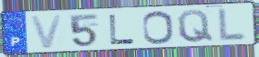5: (68, 13, 101, 48)
L: (217, 7, 248, 43), (108, 13, 136, 46)
O: (141, 10, 176, 45)
Q: (176, 8, 215, 44)
V: (28, 13, 64, 50)
